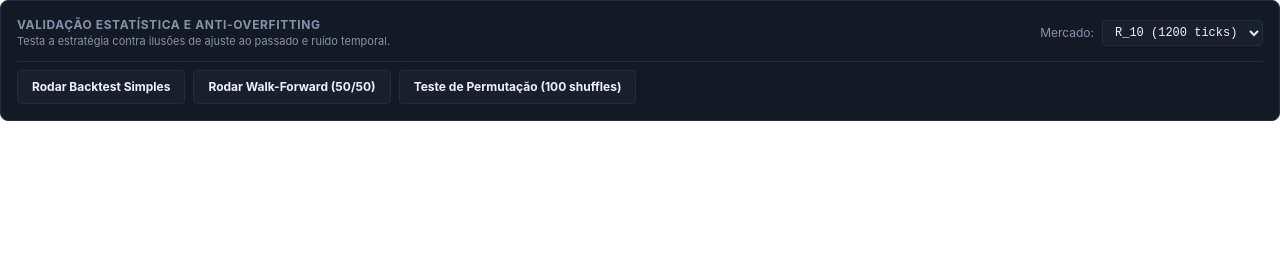
Test: BearDiffer - Validation, Risk, System and Config panels › ValidationTab › runs the simple backtest and shows the accumulated result
The image size is (1280, 268).
Step 1. Click the button "Rodar Backtest Simples" → {"x": 101, "y": 87}, box [17,70,185,104]
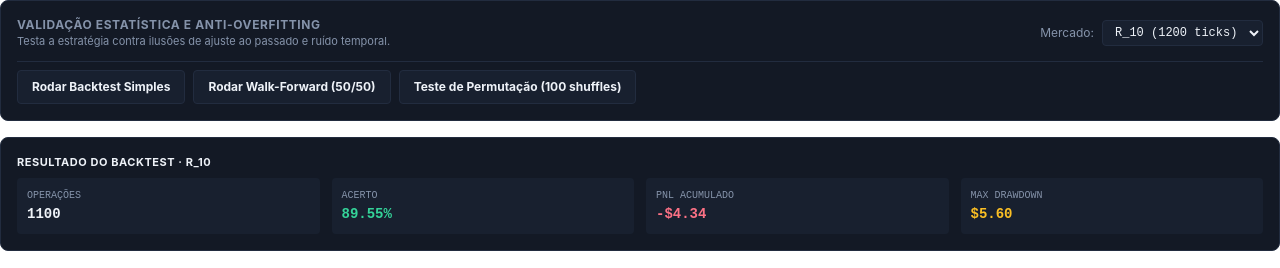
Result: the text "OPERAÇÕES" is shown at [27,190,81,201]
Result: the text "ACERTO" is shown at [342,190,378,201]
Result: the text "PNL ACUMULADO" is shown at [656,190,734,201]
